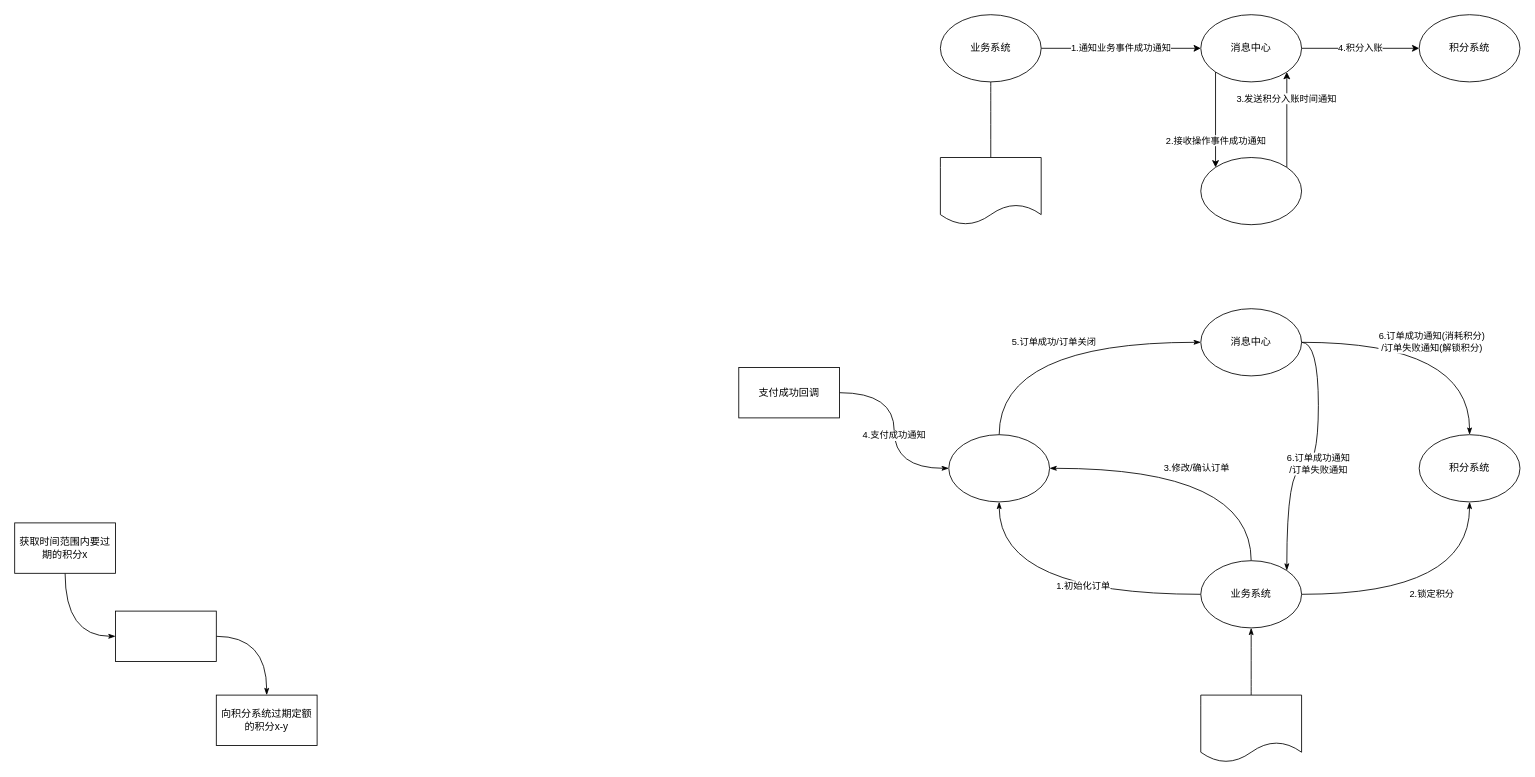
Image size: 1535x777. Some labels were removed from this diagram. The shapes that lost their labels are listed below. From the top down, each one's centre as x and y in pixels, then its label:
At [990,191]: "执行了某个特定业务, 任务系统完成任务 积分系统积分入账".
At [1251,191]: "任务系统".
At [999,468]: "订单系统".
At [165,636]: "获取时间范围内对应积分用户时间范围内的积分消费记录y".
At [1251,728]: "业务进行了了含积分的支付方式的订单支付过程".
